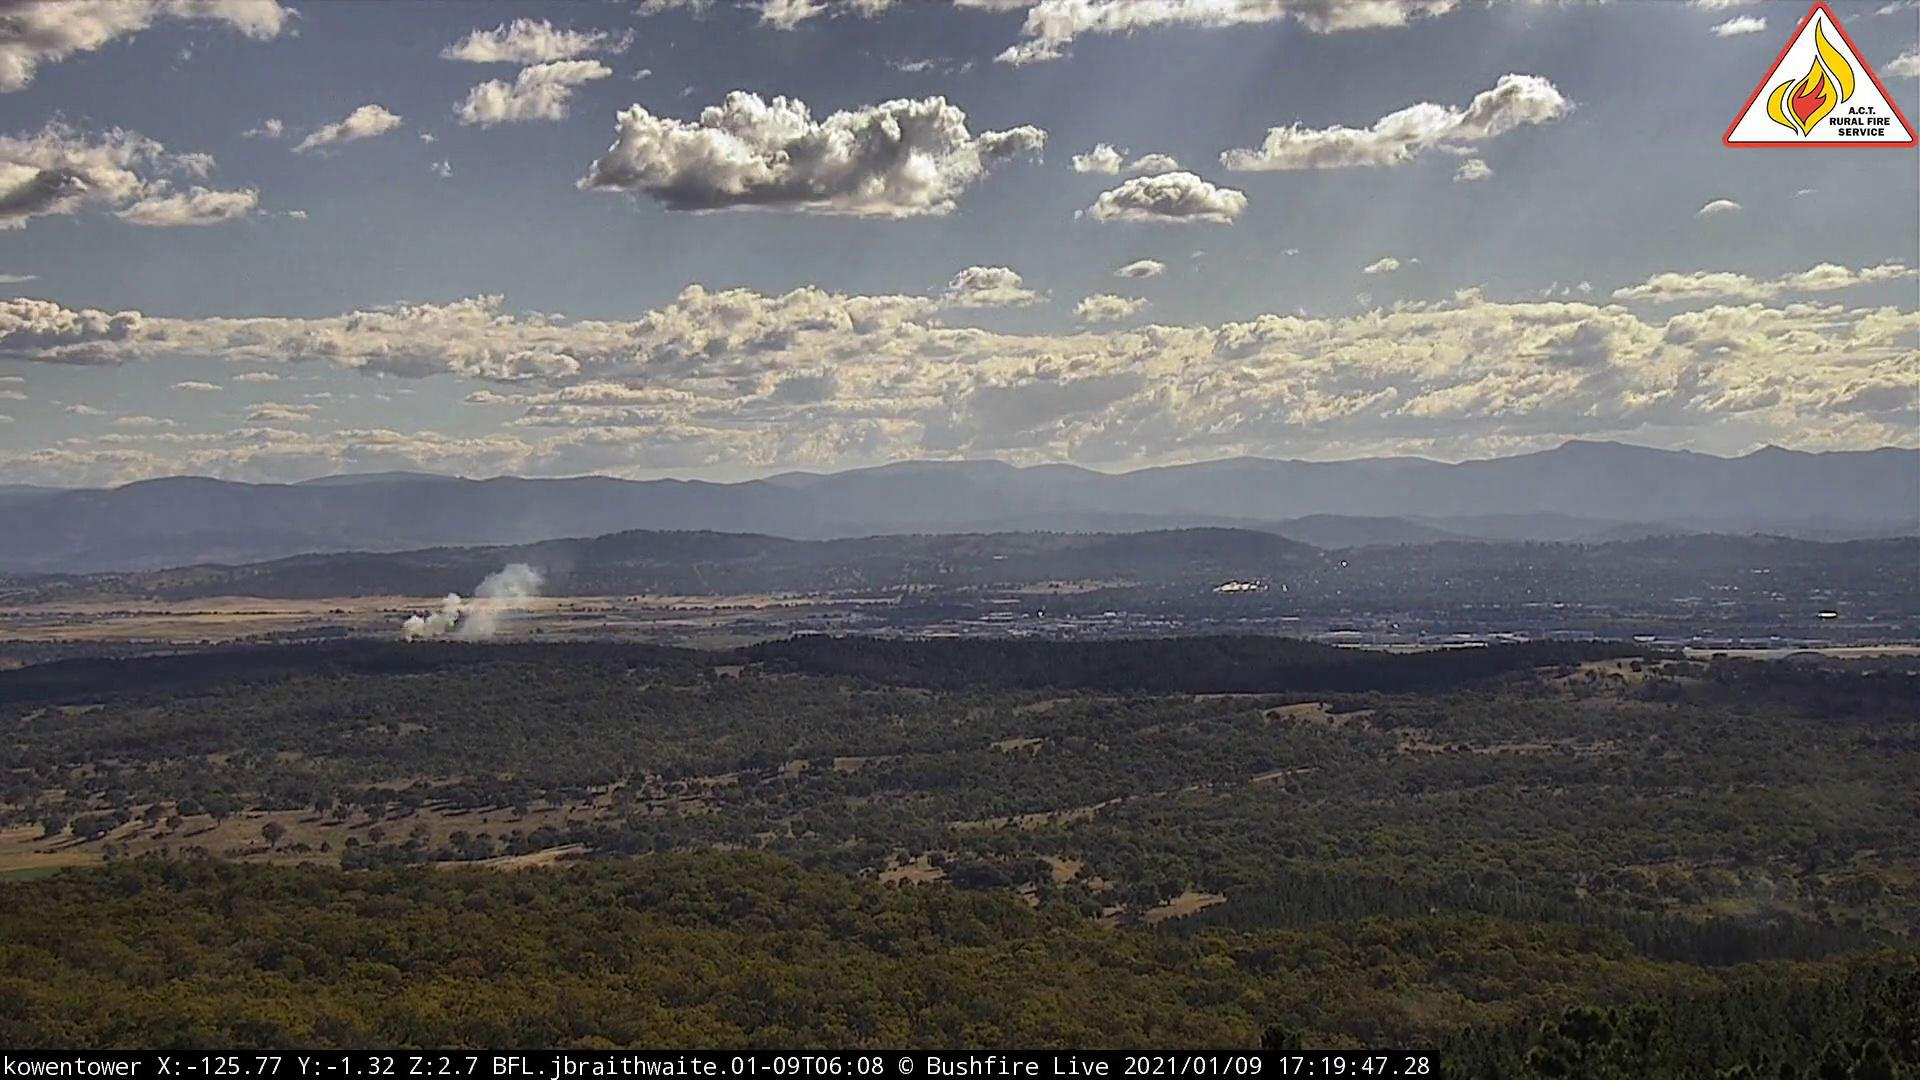Smoke: (393, 542, 564, 653)
